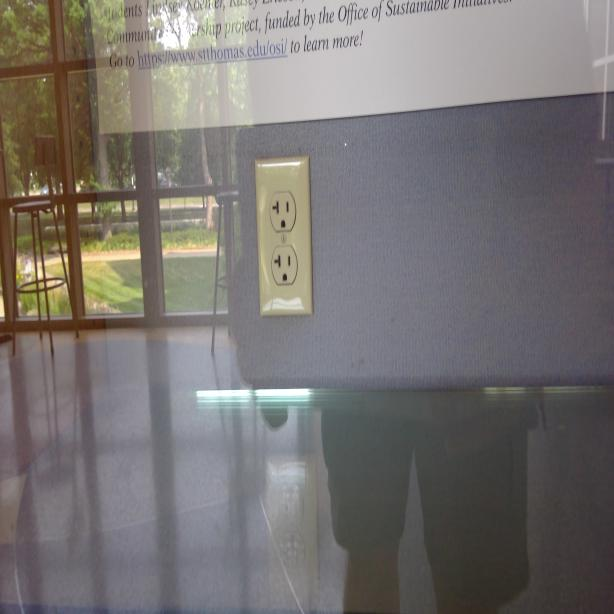typeb: (270, 191, 295, 234), (273, 243, 298, 286)
